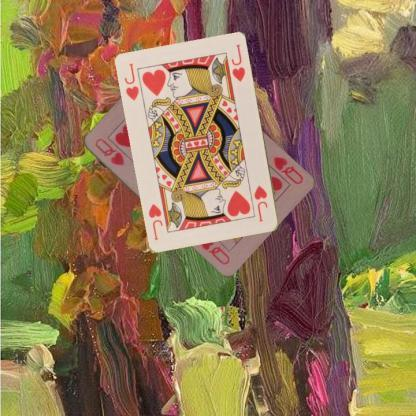Jh: (122, 60, 140, 102), (252, 183, 269, 223)
Qh: (92, 135, 125, 168), (271, 154, 304, 186)
